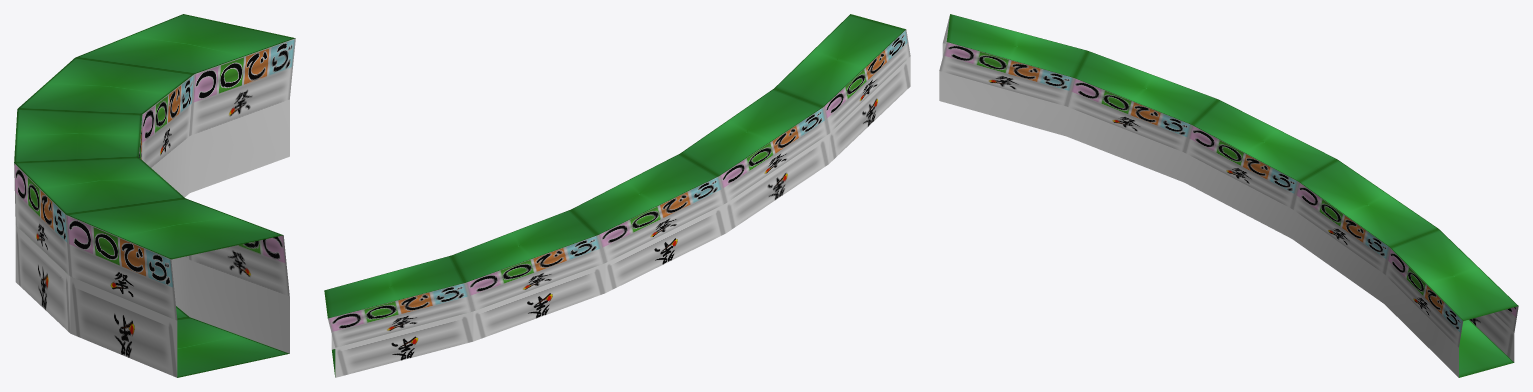
Rendered from CourseSummer_Wall_R_2.fbx.
3 renders of one model, left to right at view 1: azimuth 30°, elevation 25°; view 2: azimuth 150°, elevation 25°; view 3: azimuth 270°, elevation 25°, orthographic. The views are drawn at different scales.
Visible parts, largest first — view 1: polySurface85; view 2: polySurface85; view 3: polySurface85.
Boxes of the visible parts, x1,y1,x2,y2 form: polySurface85: (14, 14, 295, 377); polySurface85: (324, 14, 910, 377); polySurface85: (939, 14, 1518, 377).
Bounding box in the file's own units: 11.23 × 6.97 × 17.48.
Materials: 1 (1 with a texture image).
